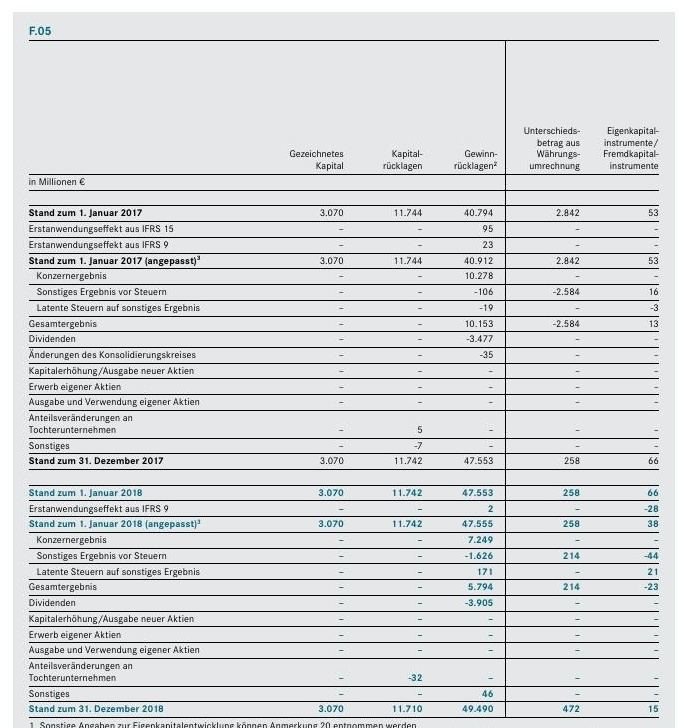table: (0, 0, 685, 728)
